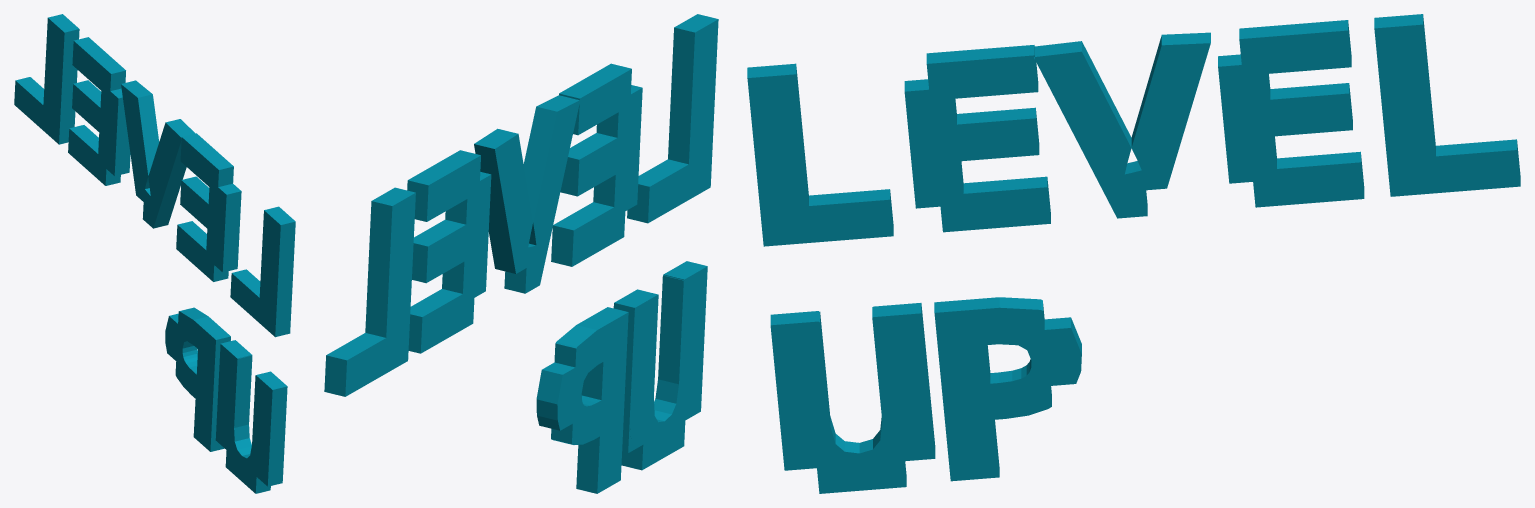
The model's file is leveluptitle3dwords.glb.
The picture shows the model from 3 angles, left to right: view 1: azimuth 30°, elevation 25°; view 2: azimuth 150°, elevation 25°; view 3: azimuth 270°, elevation 25°; orthographic projection. The views are drawn at different scales.
Parts seen in each view (by area): view 1: Mesh_Mesh_head_geo.001_lambert2SG.001; view 2: Mesh_Mesh_head_geo.001_lambert2SG.001; view 3: Mesh_Mesh_head_geo.001_lambert2SG.001.
Part boxes in pixels (x1,y1,x2,y2): Mesh_Mesh_head_geo.001_lambert2SG.001: (14,14,295,493); Mesh_Mesh_head_geo.001_lambert2SG.001: (324,14,718,493); Mesh_Mesh_head_geo.001_lambert2SG.001: (747,14,1520,493).
Bounding box in the file's own units: 3 × 61 × 91.02.
